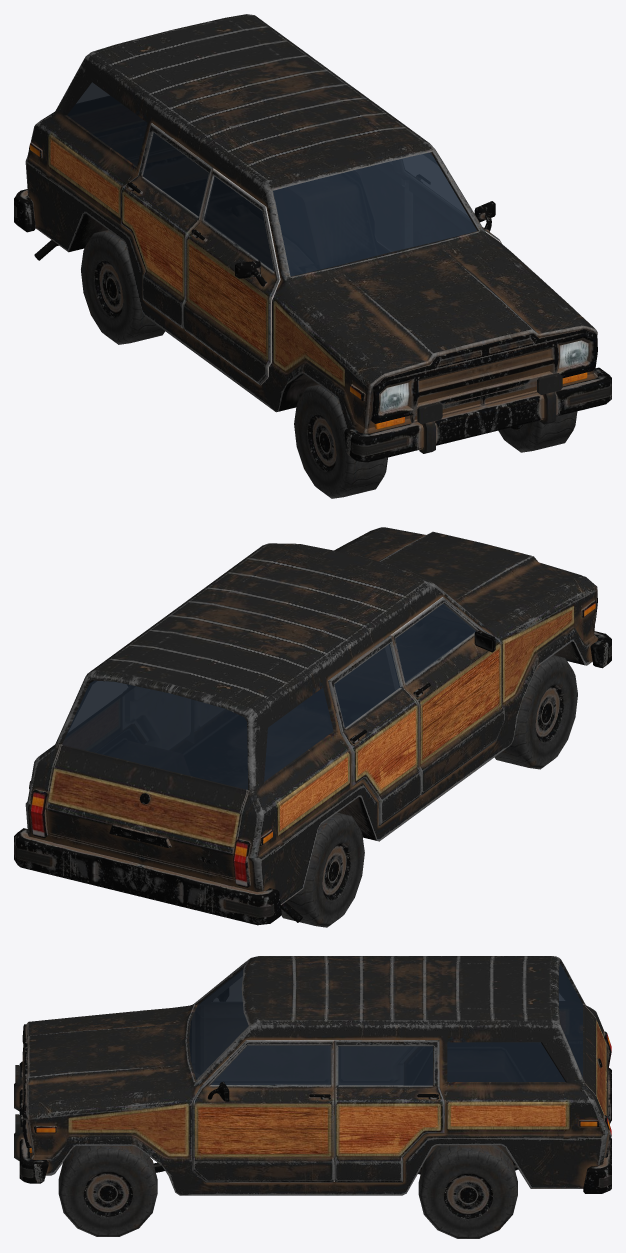
The model's file is car_wagoneer.glb.
3 views of the same model, one above another, from view 1: azimuth 30°, elevation 25°; view 2: azimuth 150°, elevation 25°; view 3: azimuth 270°, elevation 25° (orthographic). The views are drawn at different scales.
Parts seen in each view (by area): view 1: Object_3, Object_2; view 2: Object_3, Object_2; view 3: Object_3, Object_2.
Part boxes in pixels (box(x1,y1,x2,y2)): Object_3: box(14, 14, 611, 498); Object_2: box(67, 82, 477, 276); Object_3: box(14, 527, 611, 927); Object_2: box(62, 603, 475, 789); Object_3: box(14, 956, 611, 1238); Object_2: box(189, 964, 582, 1085).
Size of the model in its own units: 114 by 102 by 265.
Materials: 2 (1 with a texture image).
